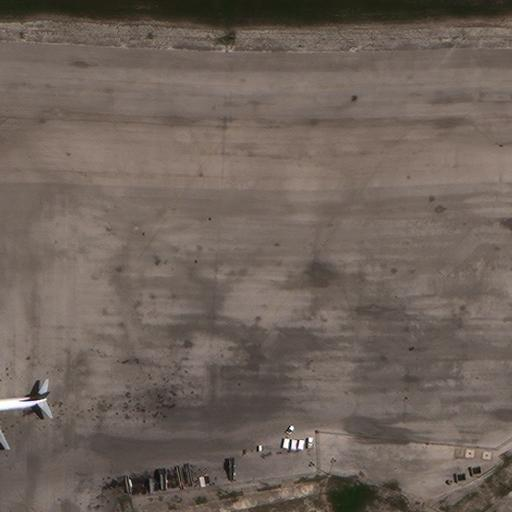Medium Civil Transport: (0, 367, 49, 449)
